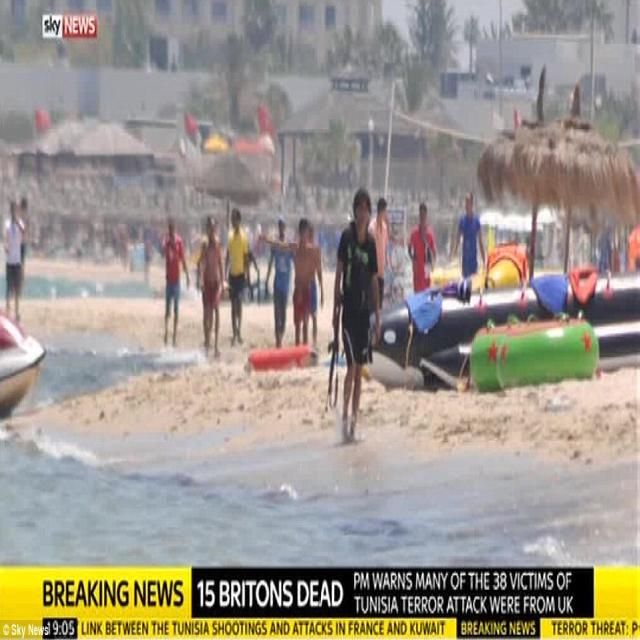body: (0, 142, 159, 286), (164, 172, 354, 268), (332, 186, 381, 446), (476, 216, 639, 290), (262, 216, 324, 350), (366, 180, 413, 316), (263, 216, 297, 350), (160, 212, 190, 352), (222, 206, 250, 350), (430, 193, 461, 303), (1, 195, 27, 326), (202, 219, 226, 360), (451, 189, 486, 279), (406, 199, 438, 293), (366, 195, 390, 313), (307, 224, 325, 357), (194, 271, 216, 358), (17, 194, 31, 282), (413, 187, 429, 224), (474, 183, 484, 215)
